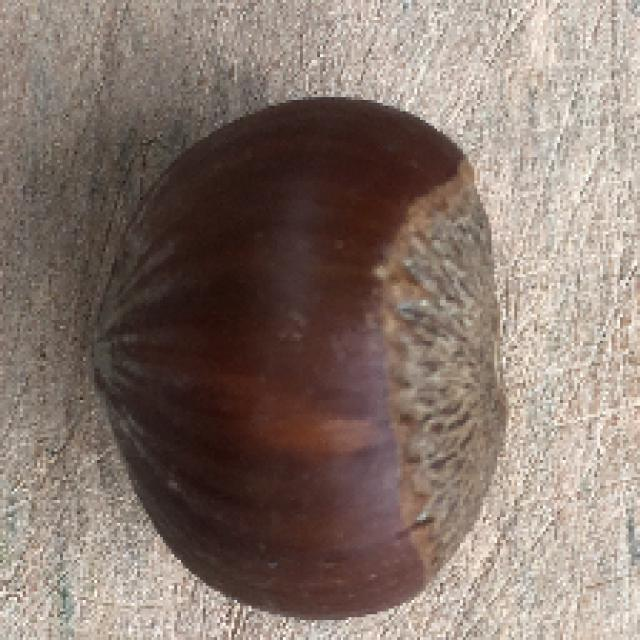damagedHazelnut: (77, 90, 507, 626)
